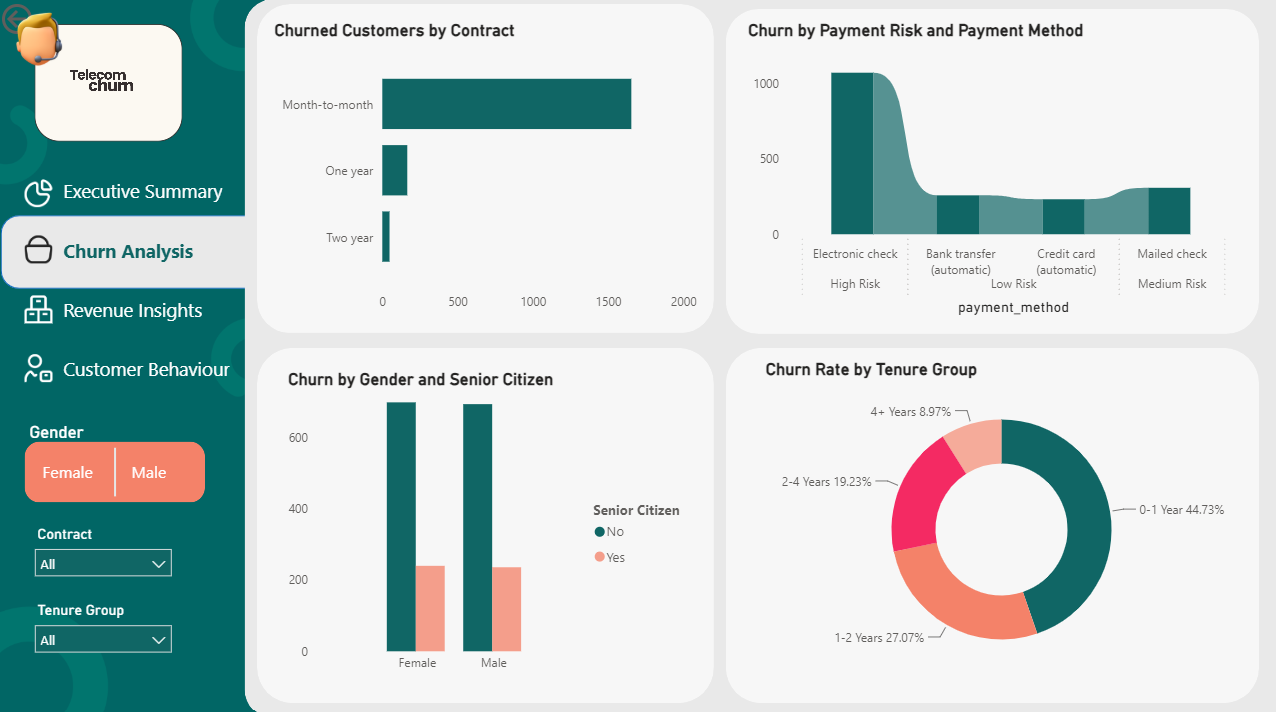

This screenshot's page, from the dashboard's own definition file:
{"tool":"powerbi","page":{"name":"Churn Analysis","canvas":[1280,720],"ordinal":1},"visuals":[{"type":"shape","box":[4.2,216.7,255.6,73.6],"z":0},{"type":"advancedSlicerVisual","title":"Gender","fields":{"Values":["customer_churn_clean.gender"]},"box":[27.8,422.2,180.6,80.6],"z":0,"group":"g5"},{"type":"shape","box":[247.2,0,1033.3,719.4],"z":1000},{"type":"shape","box":[87.5,448.6,61.1,48.6],"z":1000,"group":"g5"},{"type":"shape","box":[729.2,9.7,533.3,325],"z":2000},{"type":"shape","box":[259.7,348.6,456.9,355.6],"z":3000},{"type":"group","id":"g1","title":"Group 5","box":[259.7,5.6,456.9,329.2],"z":4000},{"type":"shape","box":[729.2,348.6,533.3,355.6],"z":5000},{"type":"pageNavigator","box":[66.7,162.5,180.6,237.5],"z":6000},{"type":"image","box":[27.8,173.6,27.8,40.3],"z":7000},{"type":"image","box":[27.8,230.6,27.8,40.3],"z":8000},{"type":"shape","box":[259.7,5.6,456.9,329.2],"z":8500,"group":"g2"},{"type":"image","box":[27.8,290.3,27.8,40.3],"z":9000},{"type":"image","box":[27.8,348.6,27.8,40.3],"z":10000},{"type":"slicer","title":"Contract","fields":{"Values":["customer_churn_clean.contract"]},"box":[27.8,520.8,156.9,59.7],"z":11000},{"type":"group","id":"g2","title":"Group 6","box":[259.7,5.6,456.9,329.2],"z":11002,"group":"g1"},{"type":"group","id":"g3","title":"Group 7","box":[27.8,422.2,180.6,80.6],"z":12000},{"type":"clusteredBarChart","title":"Churned Customers by Contract","fields":{"Y":["_Key_Measure.Churned Customers"],"Category":["customer_churn_clean.contract","customer_churn_clean.payment_method"]},"box":[272.2,20.8,431.9,300],"z":13000},{"type":"ribbonChart","title":"Churn by Payment Risk and Payment Method","fields":{"Category":["customer_churn_clean.payment_risk","customer_churn_clean.payment_method"],"Y":["Sum(customer_churn_clean.churn_value)"]},"box":[745.8,20.8,500,300],"z":14000},{"type":"clusteredColumnChart","title":"Churn by Gender and Senior Citizen","fields":{"Category":["customer_churn_clean.gender"],"Series":["customer_churn_clean.senior_citizen"],"Y":["Sum(customer_churn_clean.churn_value)"]},"box":[286.1,369.4,418.1,312.5],"z":15000},{"type":"actionButton","box":[0,0,100,40],"z":16000},{"type":"donutChart","title":"Churn Rate by Tenure Group","fields":{"Y":["_Key_Measure.Churn Rate %"],"Category":["customer_churn_clean.tenure_group"]},"box":[763.9,359.7,481.9,322.2],"z":17000},{"type":"group","id":"g4","title":"Group 10","box":[0,11.1,184.7,131.9],"z":18000},{"type":"image","box":[36.9,25.2,147.8,117.8],"z":18000,"group":"g4"},{"type":"slicer","title":"Contract","fields":{"Values":["customer_churn_clean.tenure_group"]},"box":[27.8,597.2,156.9,93.1],"z":18001},{"type":"image","box":[0,11.1,82.5,58.9],"z":19500,"group":"g4"},{"type":"shape","box":[27.8,441.6,180.6,61.1],"z":20000,"group":"g3"},{"type":"group","id":"g5","title":"Group 8","box":[27.8,422.2,180.6,80.6],"z":21003,"group":"g3"}]}

Visuals, with their boxes on the page's 1280x720 design canvas (x1, y1, x2, y2). These are canvas units, not pixel positions in the 1276x712 screenshot, which may show the page scaled, cropped or inside an application window:
shape: l=4, t=217, r=260, b=290
"Gender" advancedSlicerVisual: l=28, t=422, r=208, b=503
shape: l=247, t=0, r=1280, b=719
shape: l=88, t=449, r=149, b=497
shape: l=729, t=10, r=1262, b=335
shape: l=260, t=349, r=717, b=704
"Group 5" group: l=260, t=6, r=717, b=335
shape: l=729, t=349, r=1262, b=704
pageNavigator: l=67, t=162, r=247, b=400
image: l=28, t=174, r=56, b=214
image: l=28, t=231, r=56, b=271
shape: l=260, t=6, r=717, b=335
image: l=28, t=290, r=56, b=331
image: l=28, t=349, r=56, b=389
"Contract" slicer: l=28, t=521, r=185, b=580
"Group 6" group: l=260, t=6, r=717, b=335
"Group 7" group: l=28, t=422, r=208, b=503
"Churned Customers by Contract" clusteredBarChart: l=272, t=21, r=704, b=321
"Churn by Payment Risk and Payment Method" ribbonChart: l=746, t=21, r=1246, b=321
"Churn by Gender and Senior Citizen" clusteredColumnChart: l=286, t=369, r=704, b=682
actionButton: l=0, t=0, r=100, b=40
"Churn Rate by Tenure Group" donutChart: l=764, t=360, r=1246, b=682
"Group 10" group: l=0, t=11, r=185, b=143
image: l=37, t=25, r=185, b=143
"Contract" slicer: l=28, t=597, r=185, b=690
image: l=0, t=11, r=82, b=70
shape: l=28, t=442, r=208, b=503
"Group 8" group: l=28, t=422, r=208, b=503
